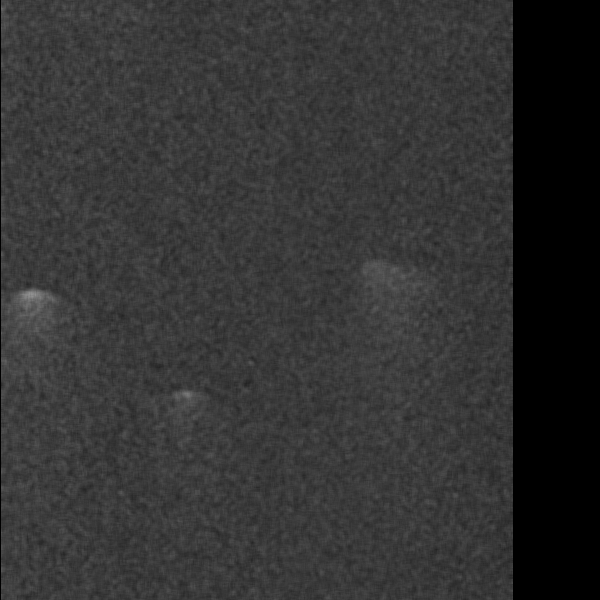spark: (1, 430, 74, 594), (385, 25, 428, 115), (38, 550, 64, 595)
